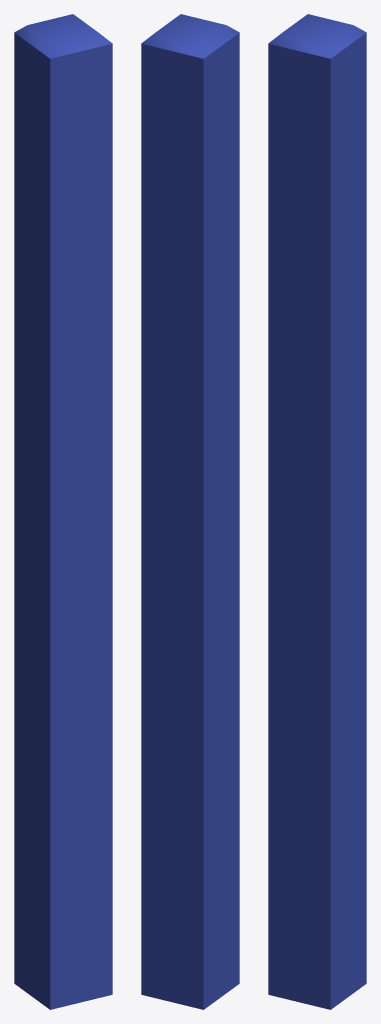
3 views of the same model, side by side, from view 1: azimuth 30°, elevation 25°; view 2: azimuth 150°, elevation 25°; view 3: azimuth 330°, elevation 25° (orthographic).
Visible parts, largest first — view 1: Cube; view 2: Cube; view 3: Cube.
Boxes of the visible parts, x1,y1,x2,y2 form: Cube: [14, 14, 112, 1009]; Cube: [141, 14, 239, 1009]; Cube: [268, 14, 366, 1009].
Size of the model in its own units: 15 by 15 by 220.
